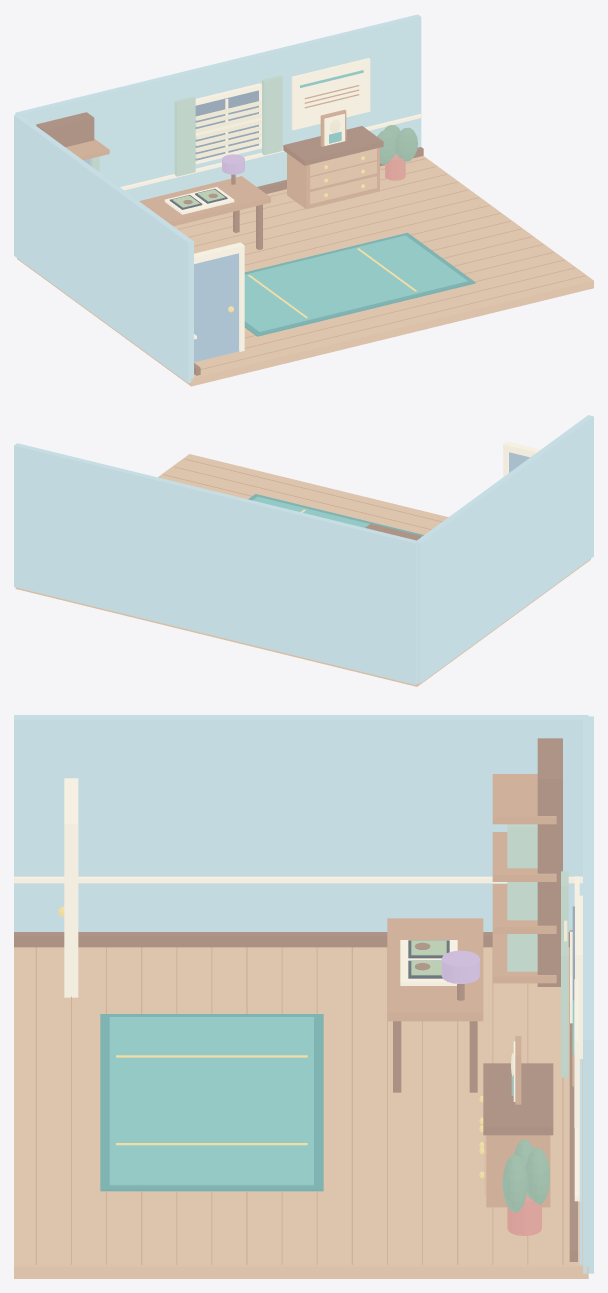
File: house-study.glb
3 views of the same model, one above another, from view 1: azimuth 30°, elevation 25°; view 2: azimuth 150°, elevation 25°; view 3: azimuth 270°, elevation 25° (orthographic). The views are drawn at different scales.
Visible parts, largest first — view 1: Floor.002, Left_wall.002, Back_wall.002, Rug_inner, Door_Living_panel.001, Construction_board, Back_wainscot.002, Desk_top, Chest_top, Rug_border, Wood_chest, Curtain.002 (+14 smaller); view 2: Back_wall.002, Left_wall.002, Floor.002, Rug_inner, Rug_border, Floor_seam.030, Floor_seam.031; view 3: Floor.002, Left_wall.002, Rug_inner, Desk_top, Back_wall.002, Left_skirting.002, Bookcase_back, Rug_border, Chest_top, Left_trim.002, Bookcase_shelf.003, Door_Living_jamb.003 (+18 smaller).
Part boxes in pixels (left/top/right/bottom): Floor.002: left=17, top=156, right=593, bottom=386; Left_wall.002: left=14, top=114, right=193, bottom=383; Back_wall.002: left=15, top=14, right=421, bottom=186; Rug_inner: left=244, top=235, right=467, bottom=331; Door_Living_panel.001: left=194, top=253, right=238, bottom=362; Construction_board: left=291, top=58, right=370, bottom=130; Back_wainscot.002: left=124, top=118, right=420, bottom=200; Desk_top: left=139, top=176, right=270, bottom=226; Chest_top: left=283, top=126, right=383, bottom=165; Rug_border: left=244, top=232, right=475, bottom=336; Wood_chest: left=287, top=147, right=379, bottom=209; Curtain.002: left=174, top=97, right=195, bottom=176; Back_wall.002: left=14, top=443, right=418, bottom=684; Left_wall.002: left=417, top=415, right=593, bottom=683; Floor.002: left=15, top=454, right=590, bottom=686; Rug_inner: left=252, top=496, right=421, bottom=536; Rug_border: left=248, top=494, right=423, bottom=536; Floor_seam.030: left=174, top=466, right=431, bottom=529; Floor_seam.031: left=184, top=458, right=442, bottom=521; Floor.002: left=14, top=947, right=588, bottom=1278; Left_wall.002: left=14, top=715, right=588, bottom=931; Rug_inner: left=109, top=1017, right=313, bottom=1185; Desk_top: left=387, top=918, right=483, bottom=1021; Back_wall.002: left=583, top=716, right=593, bottom=1273; Left_skirting.002: left=14, top=932, right=569, bottom=947; Bookcase_back: left=537, top=738, right=562, bottom=986; Rug_border: left=100, top=1014, right=323, bottom=1191; Chest_top: left=483, top=1063, right=553, bottom=1135; Left_trim.002: left=14, top=876, right=582, bottom=883; Bookcase_shelf.003: left=492, top=774, right=556, bottom=824; Door_Living_jamb.003: left=64, top=834, right=78, bottom=997.
Size of the model in its own units: 12.09 by 4.13 by 9.09.
